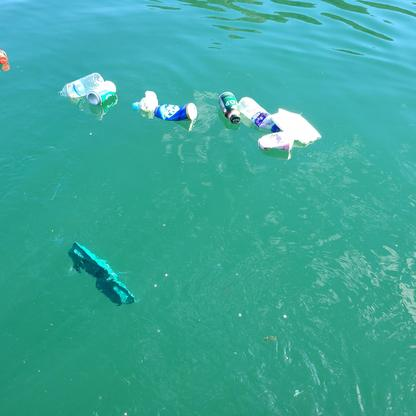can: (256, 132, 293, 152), (156, 103, 197, 121), (88, 81, 118, 104)
foam: (274, 108, 322, 144)
plastic bottle: (239, 96, 277, 130), (53, 71, 104, 96), (216, 89, 241, 123), (131, 89, 157, 113)
